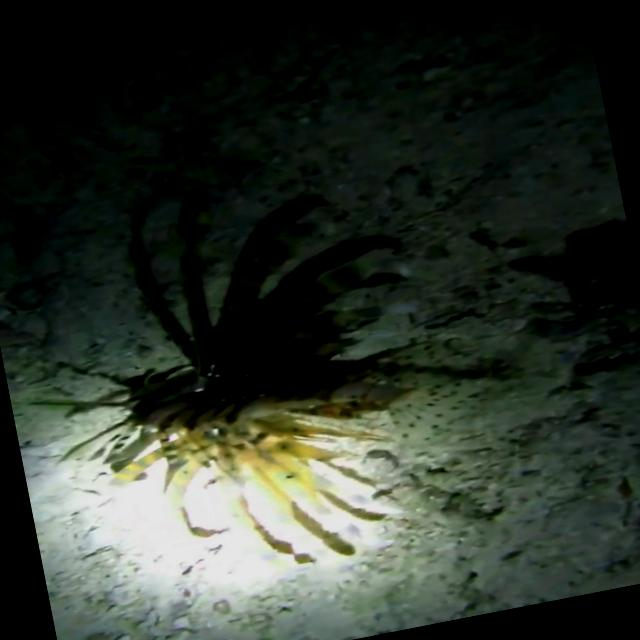Aslan Baligi: (0, 146, 464, 613)
